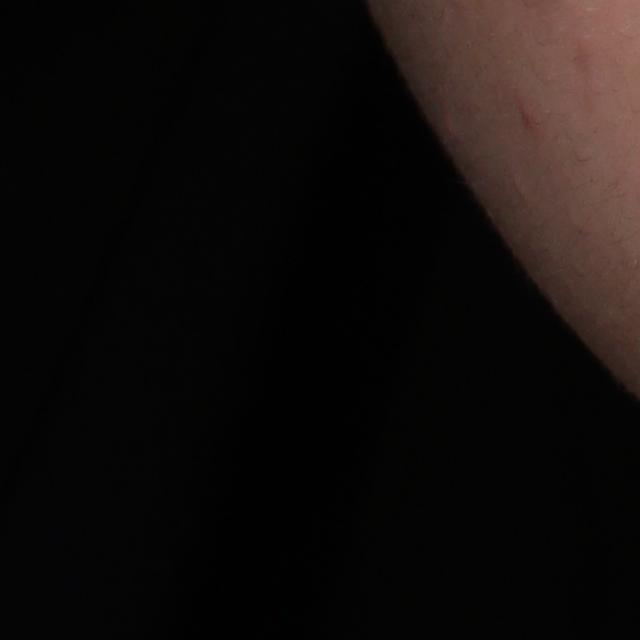papule: (517, 96, 537, 130)
